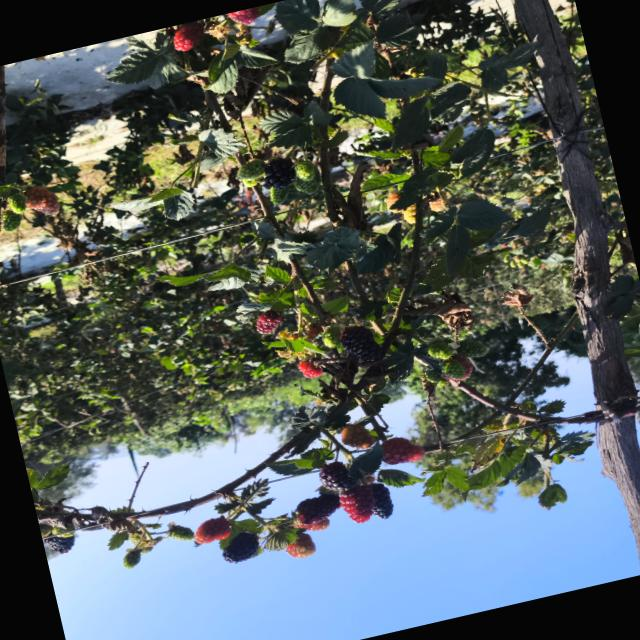maduro: (340, 326, 382, 361), (296, 493, 340, 525), (348, 443, 383, 478), (222, 531, 258, 562), (319, 461, 357, 490), (265, 158, 296, 189), (372, 483, 393, 518), (44, 536, 75, 553)
marron: (256, 310, 283, 333)
naranja: (339, 485, 375, 522), (382, 437, 425, 464), (24, 186, 60, 214), (195, 516, 231, 543), (173, 22, 204, 51), (341, 423, 376, 448), (286, 531, 315, 558), (227, 6, 259, 24), (298, 359, 322, 377), (304, 518, 330, 531)
verde: (442, 354, 473, 379), (456, 337, 488, 357), (237, 159, 264, 180), (428, 339, 454, 359), (294, 160, 317, 181), (294, 177, 319, 194), (2, 210, 21, 232), (167, 525, 194, 540), (7, 192, 26, 213), (123, 549, 141, 568), (269, 187, 288, 204), (52, 526, 73, 538), (425, 369, 443, 383)
